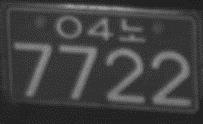0: (55, 14, 83, 39)
2: (151, 49, 193, 108), (105, 46, 146, 104)
4: (86, 16, 113, 42)
7: (57, 43, 98, 100), (13, 41, 53, 98)
노: (118, 18, 146, 43)
